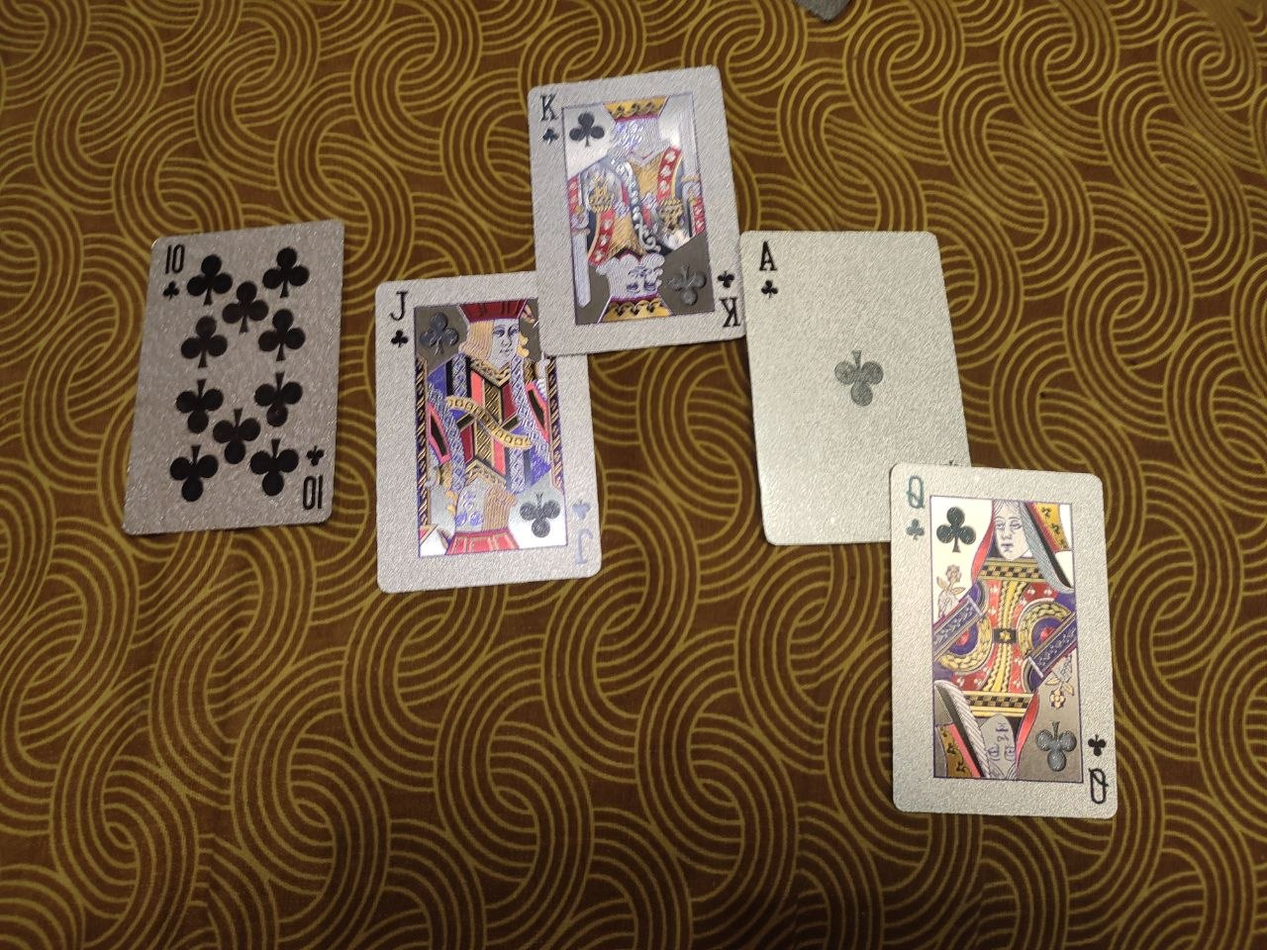10C: (124, 215, 347, 532)
AC: (741, 228, 974, 547)
JC: (373, 270, 603, 594)
KC: (526, 64, 745, 355)
QC: (888, 461, 1121, 819)
